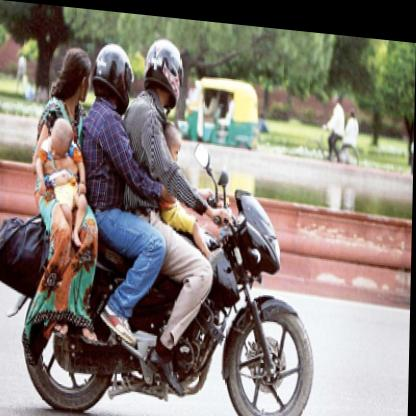With Helmet: (142, 28, 190, 103), (92, 38, 138, 107)
